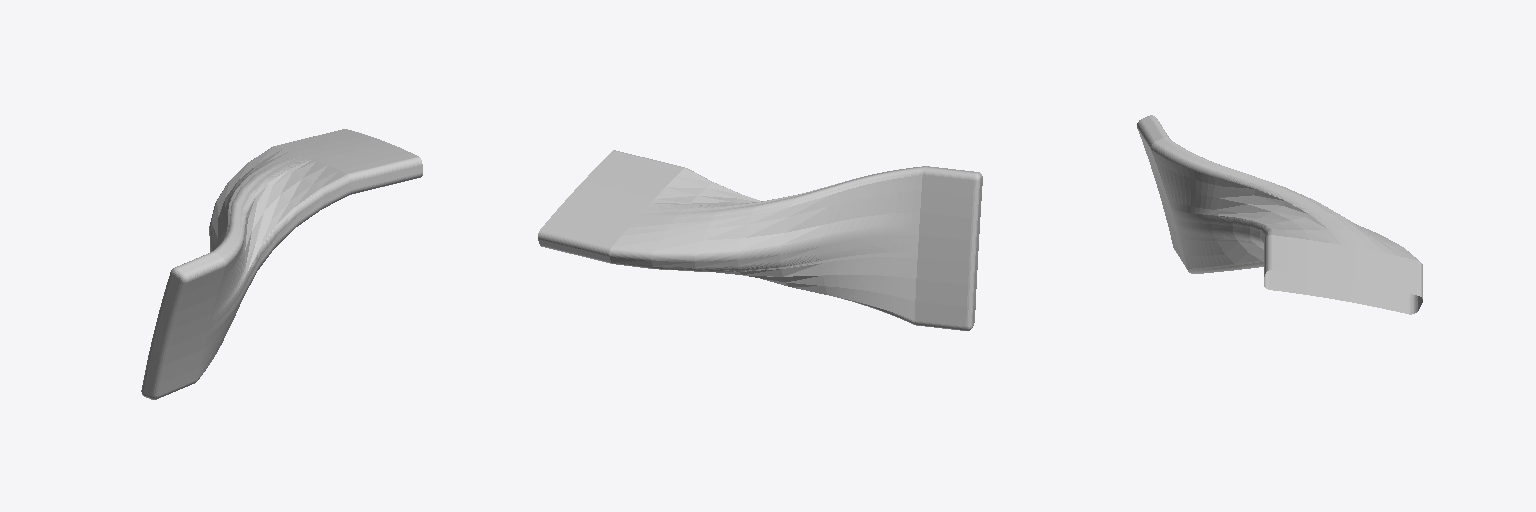
The model's file is original-12.obj.
3 views of the same model, side by side, from view 1: azimuth 30°, elevation 25°; view 2: azimuth 150°, elevation 25°; view 3: azimuth 270°, elevation 25° (orthographic).
Visible parts, largest first — view 1: #ID81; view 2: #ID81; view 3: #ID81.
Part boxes in pixels (bbox=[...]): #ID81: bbox=[141, 129, 422, 399]; #ID81: bbox=[538, 150, 982, 330]; #ID81: bbox=[1137, 115, 1422, 314].
Bounding box in the file's own units: 0.2616 × 0.1106 × 0.2039.